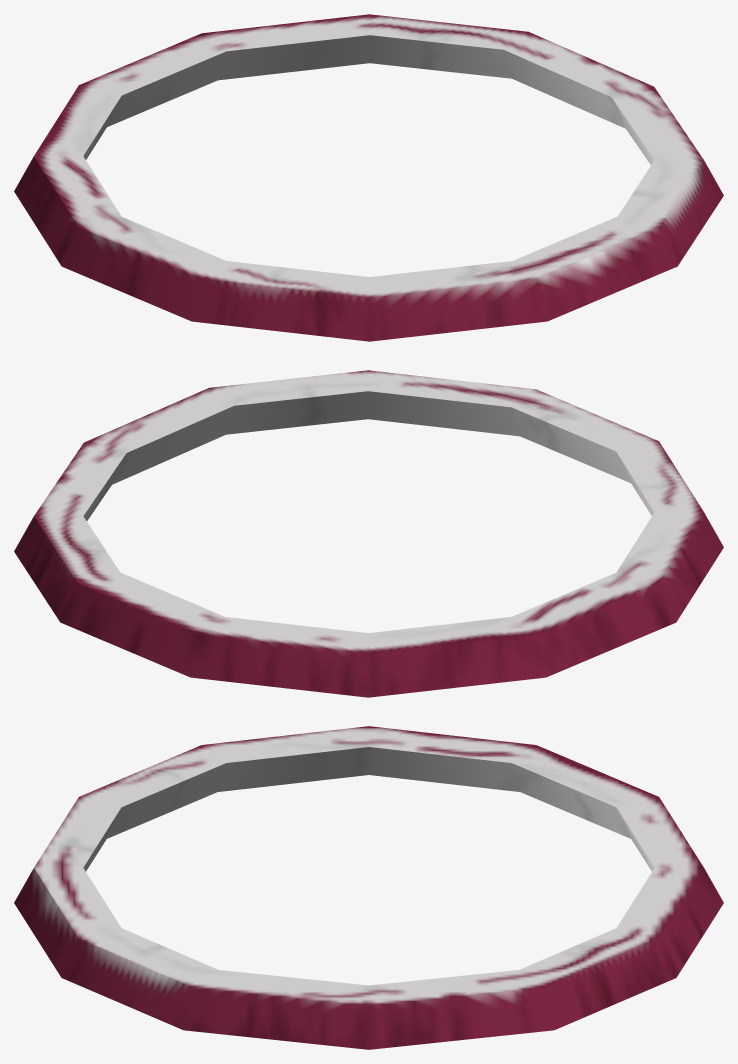
Rendered from onion01.FBX.
The picture shows the model from 3 angles, top to bottom: view 1: azimuth 30°, elevation 25°; view 2: azimuth 150°, elevation 25°; view 3: azimuth 270°, elevation 25°; orthographic projection.
Visible parts, largest first — view 1: onion01; view 2: onion01; view 3: onion01.
Boxes of the visible parts, <box> form: onion01: <box>14,14,723,341</box>; onion01: <box>14,370,723,697</box>; onion01: <box>14,726,723,1049</box>.
Bounding box in the file's own units: 7.9 × 0.4369 × 7.99.
